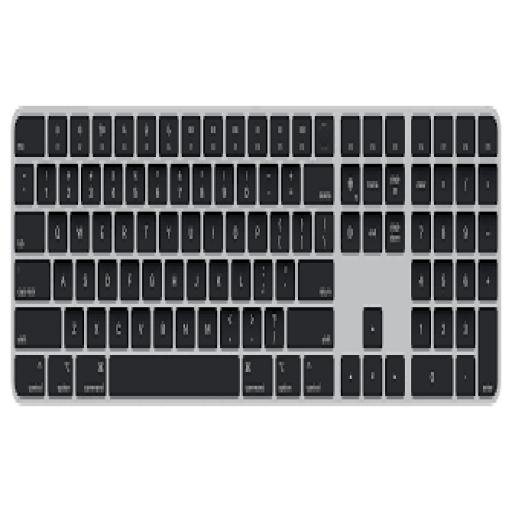keyboard: (9, 106, 501, 403)
